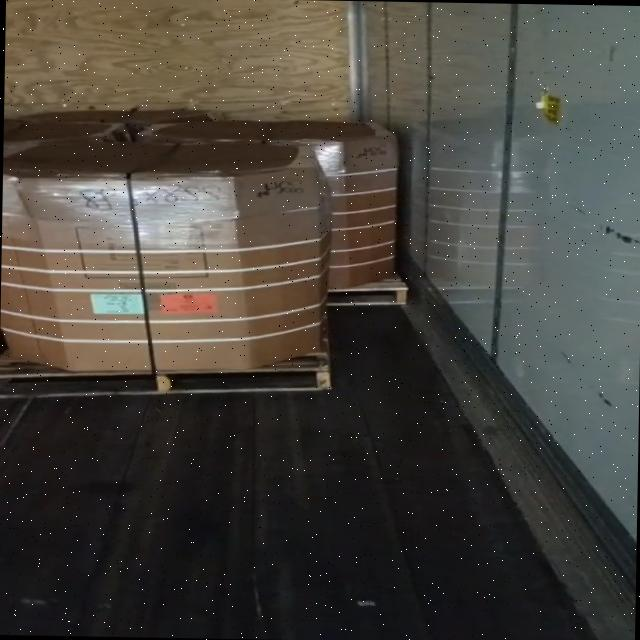pallet: (0, 366, 332, 399), (325, 287, 408, 306)
